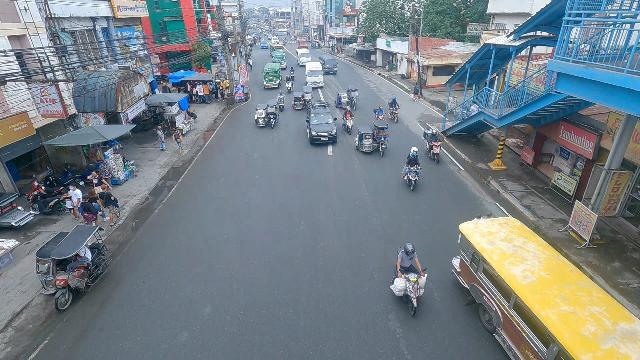car: (305, 101, 339, 145), (260, 40, 269, 49), (271, 37, 281, 45)
jeepney: (450, 213, 640, 360), (263, 62, 281, 89), (270, 50, 286, 69), (300, 23, 318, 36)
motorcycle: (390, 243, 432, 317), (401, 149, 424, 192), (422, 127, 444, 165), (341, 107, 355, 134), (388, 97, 401, 123), (284, 75, 294, 93), (277, 94, 287, 111), (374, 106, 385, 120), (289, 65, 295, 80), (283, 40, 285, 46)
van: (304, 61, 325, 88), (319, 55, 338, 75), (296, 48, 313, 66), (297, 38, 309, 49)
